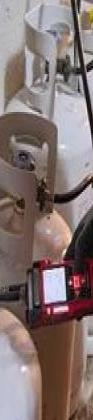cylinder: (0, 1, 93, 420)
